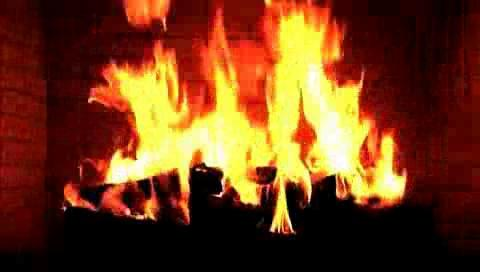fire: (102, 2, 396, 219)
